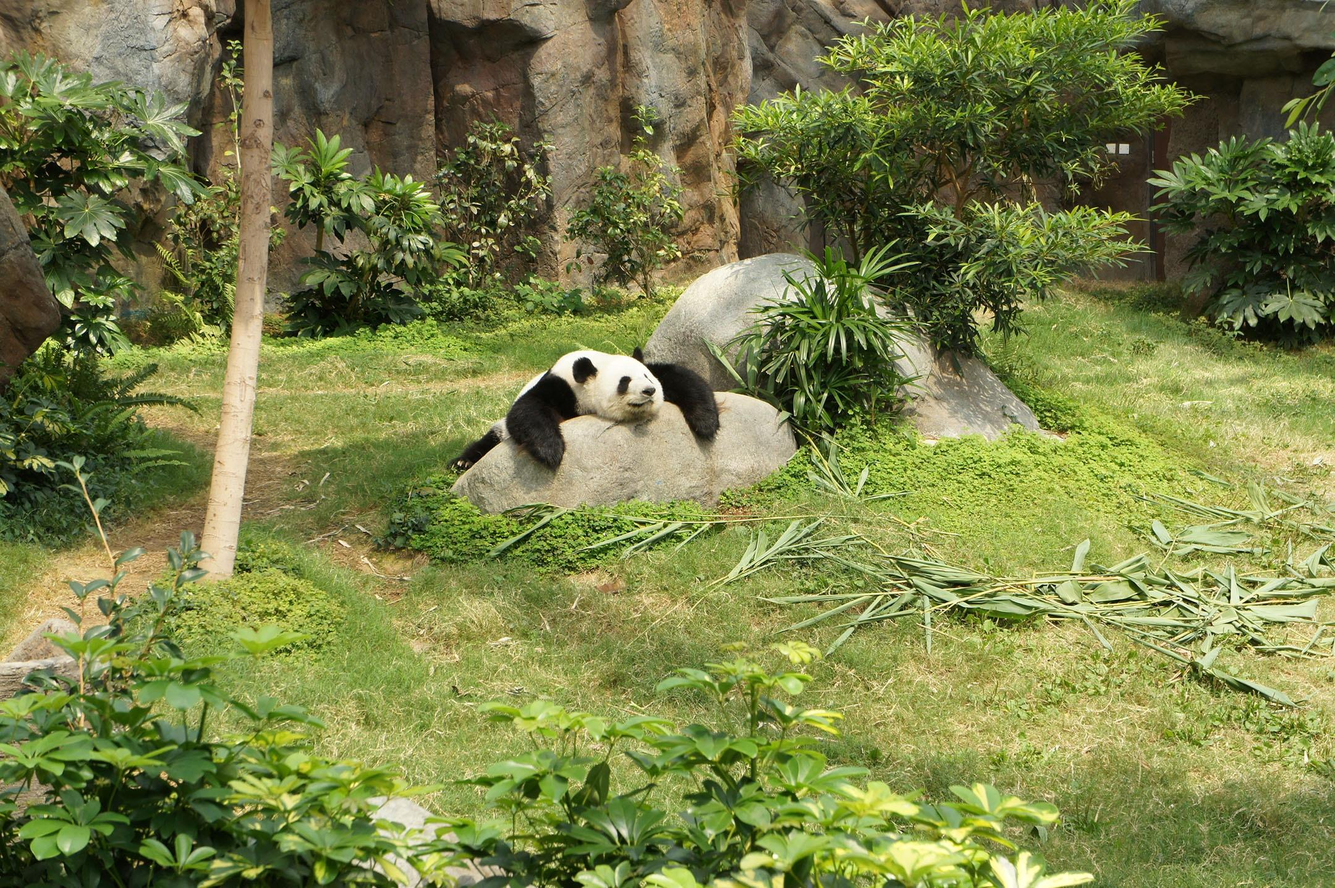panda: (441, 340, 727, 482)
